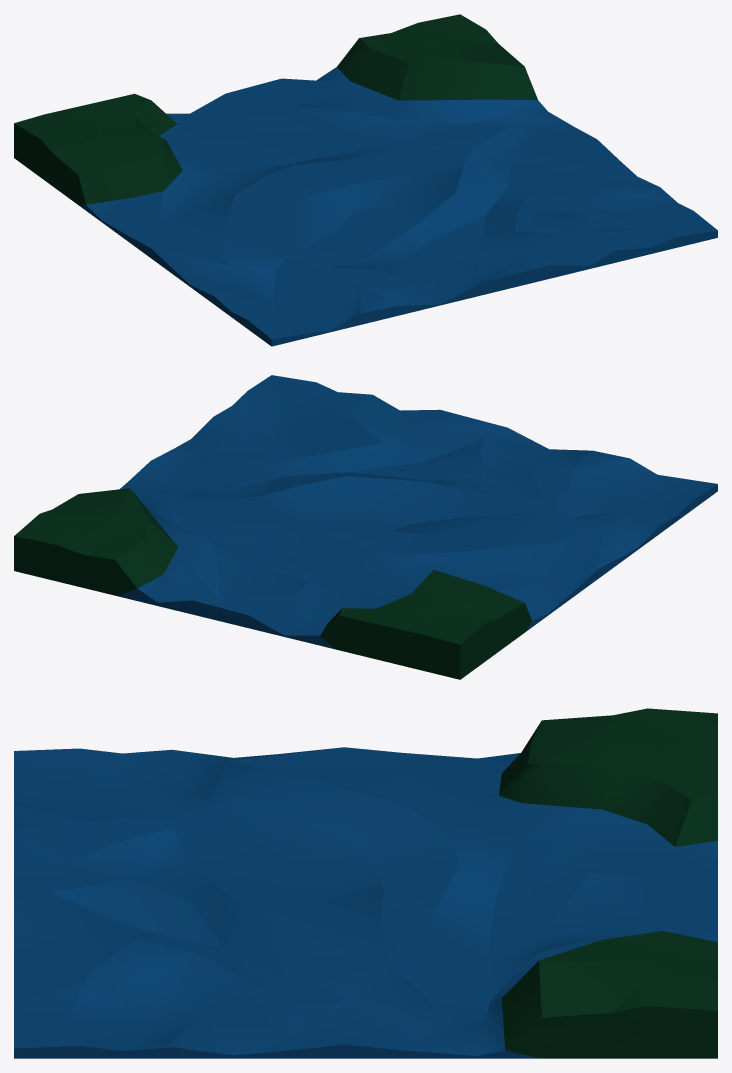
Rendered from Water_River_Entrance_U.fbx.
3 renders of one model, top to bottom at view 1: azimuth 30°, elevation 25°; view 2: azimuth 150°, elevation 25°; view 3: azimuth 270°, elevation 25°, orthographic. The views are drawn at different scales.
Visible parts, largest first — view 1: Water_River_Entrance_U; view 2: Water_River_Entrance_U; view 3: Water_River_Entrance_U.
Part boxes in pixels (x1,y1,x2,y2): Water_River_Entrance_U: (14, 14, 717, 346); Water_River_Entrance_U: (14, 375, 717, 679); Water_River_Entrance_U: (14, 708, 717, 1058).
Size of the model in its own units: 147 by 14.83 by 147.
